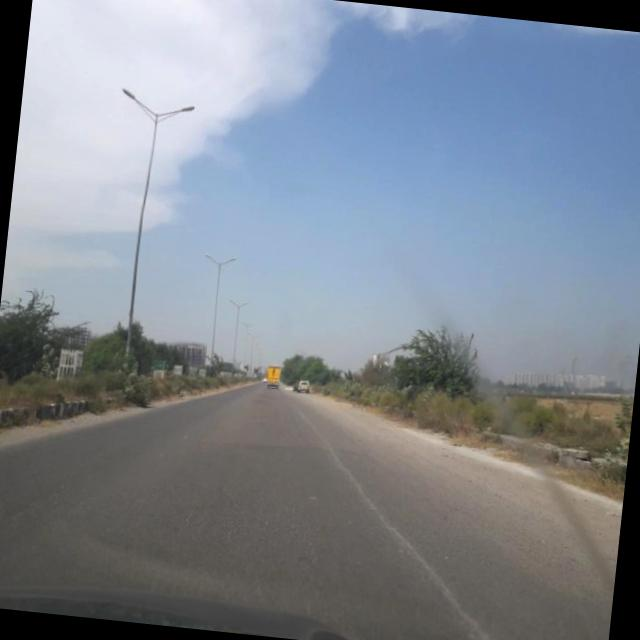pothole: (280, 410, 507, 640)
